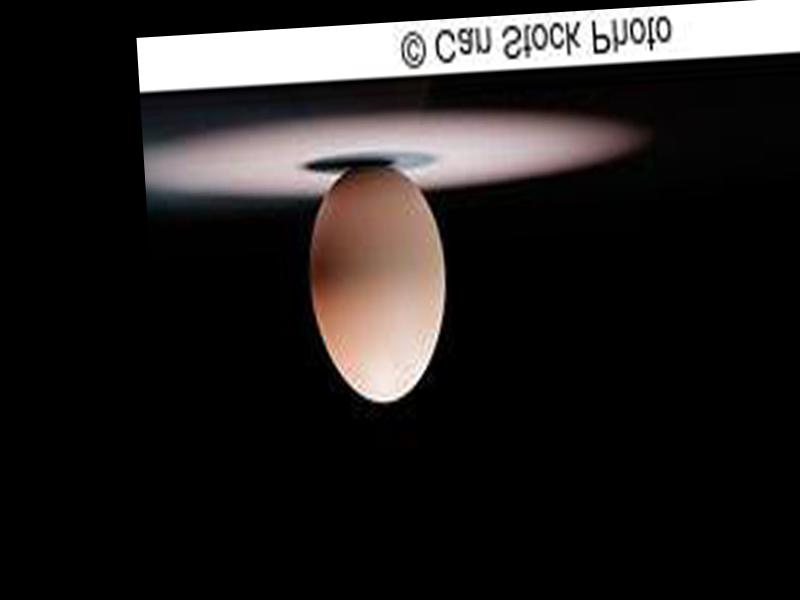Eggs: (299, 157, 452, 405)
